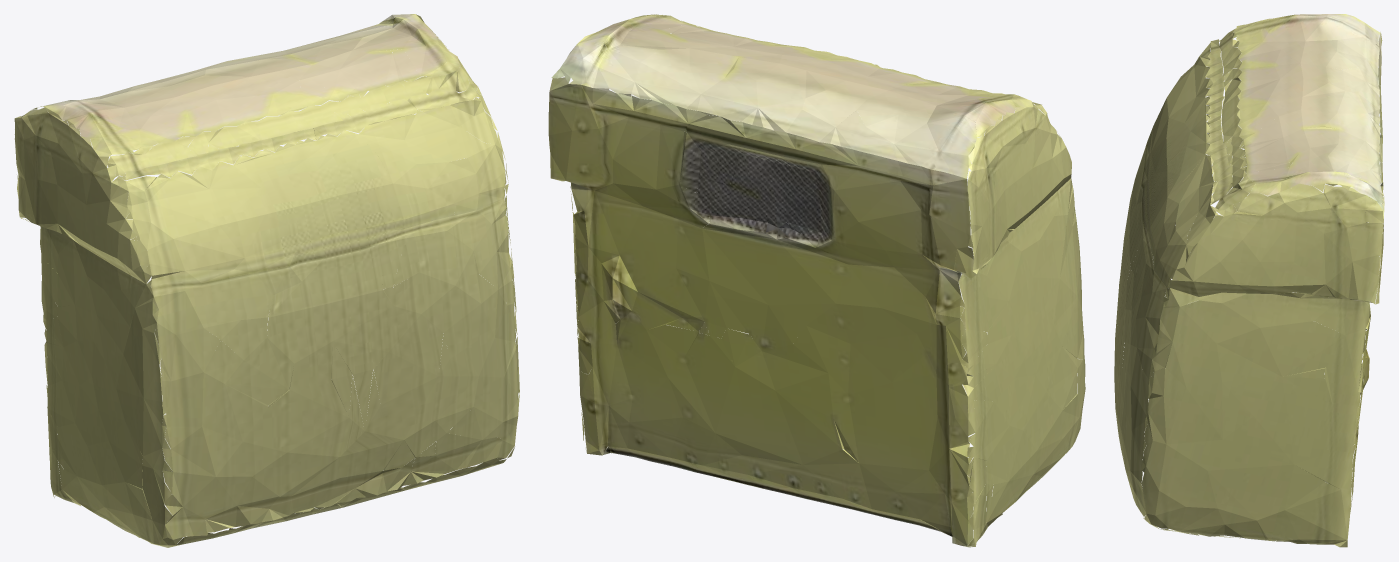
Rendered from door.glb.
3 renders of one model, left to right at view 1: azimuth 30°, elevation 25°; view 2: azimuth 150°, elevation 25°; view 3: azimuth 270°, elevation 25°, orthographic. The views are drawn at different scales.
Visible parts, largest first — view 1: world; view 2: world; view 3: world.
Boxes of the visible parts, x1,y1,x2,y2 form: world: (14,14,519,547); world: (548,14,1085,547); world: (1114,14,1384,547).
Bounding box in the file's own units: 0.831 × 0.7927 × 0.5169.
Materials: 1 (1 with a texture image).
